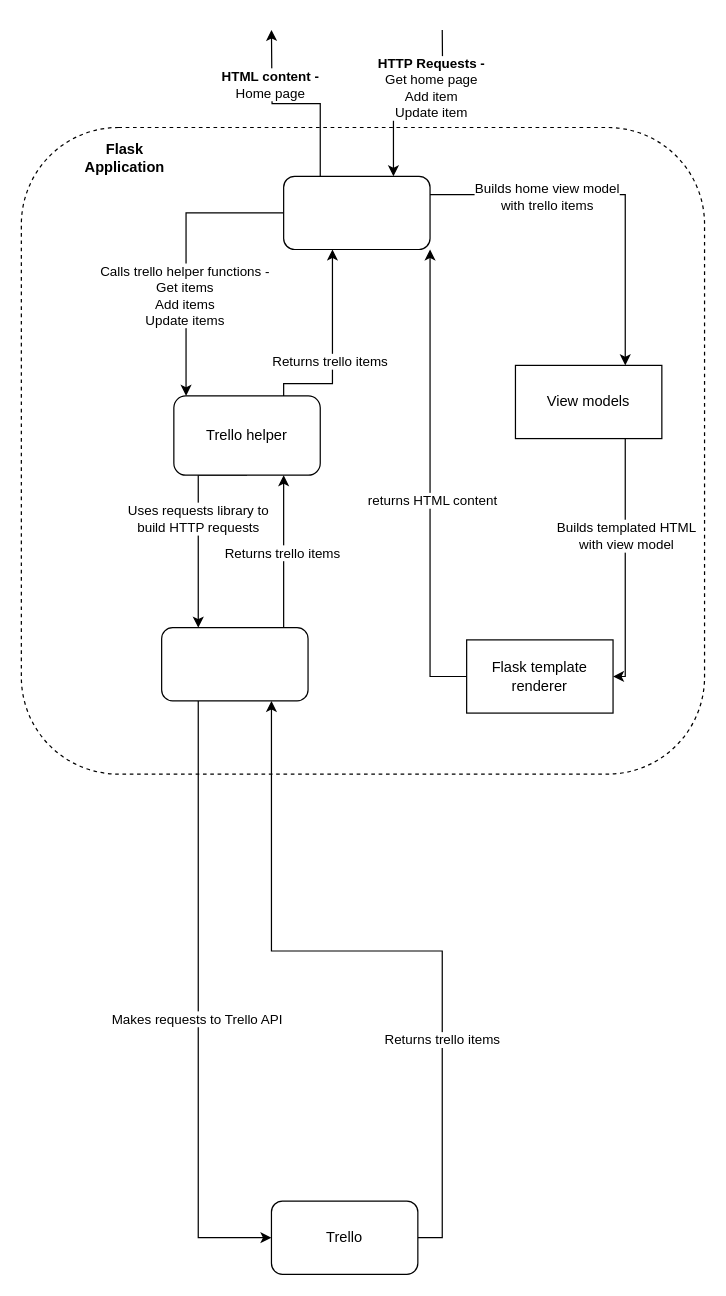
The diagram is 726 pixels wide and 1296 high, and some of its shapes have lost their labels. Each missing label, with the box of its shape:
App controller: (282, 175, 430, 249)
Requests library: (160, 626, 308, 701)
